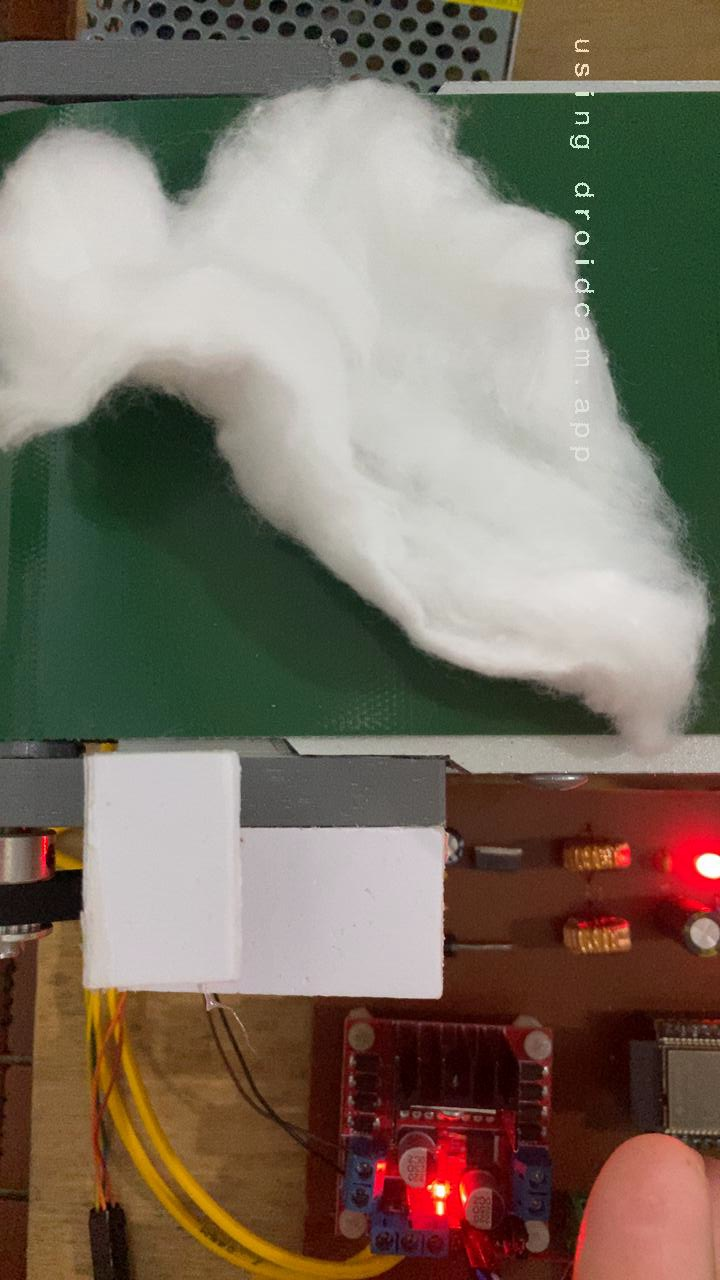cotton: (0, 94, 720, 735)
